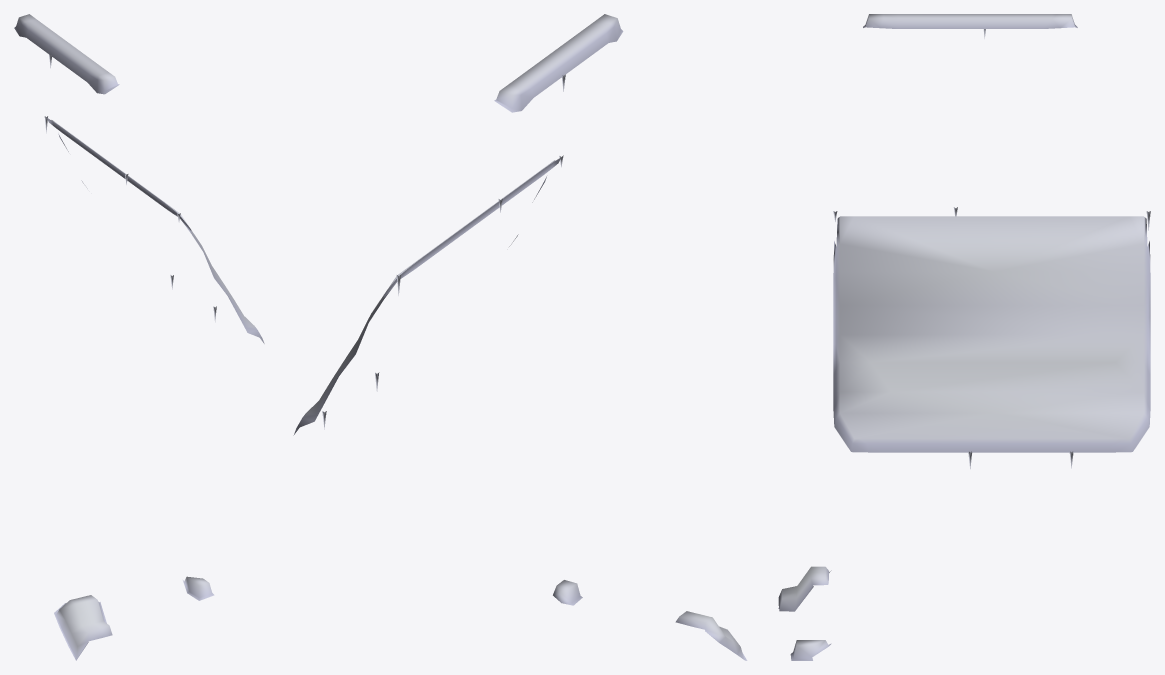
Rendered from category.staking.s.snow.glb.
3 renders of one model, left to right at view 1: azimuth 30°, elevation 25°; view 2: azimuth 150°, elevation 25°; view 3: azimuth 270°, elevation 25°, orthographic. The views are drawn at different scales.
Parts seen in each view (by area): view 1: snow; view 2: snow; view 3: snow.
Boxes of the visible parts, <box> form: snow: <box>14,14,264,660</box>; snow: <box>293,14,747,660</box>; snow: <box>778,14,1150,660</box>.
Size of the model in its own units: 2.74 by 6.29 by 3.37.
